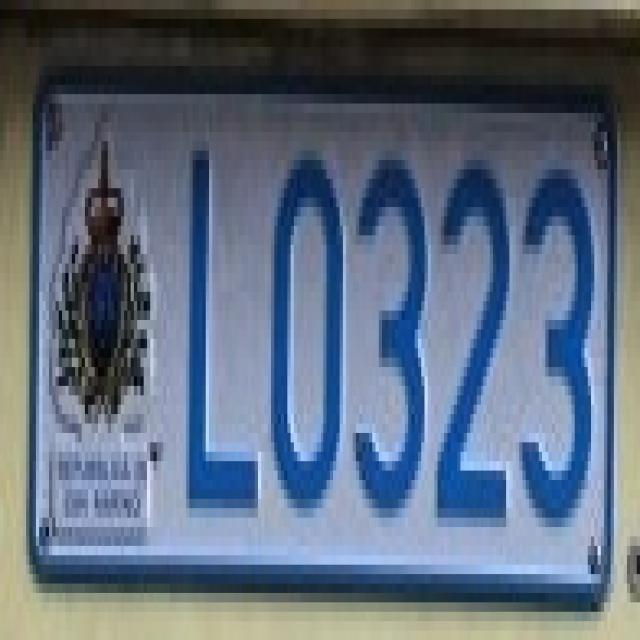0: (258, 132, 350, 508)
2: (414, 122, 520, 518)
3: (500, 132, 604, 527), (333, 132, 434, 518)
L: (146, 104, 262, 518)
